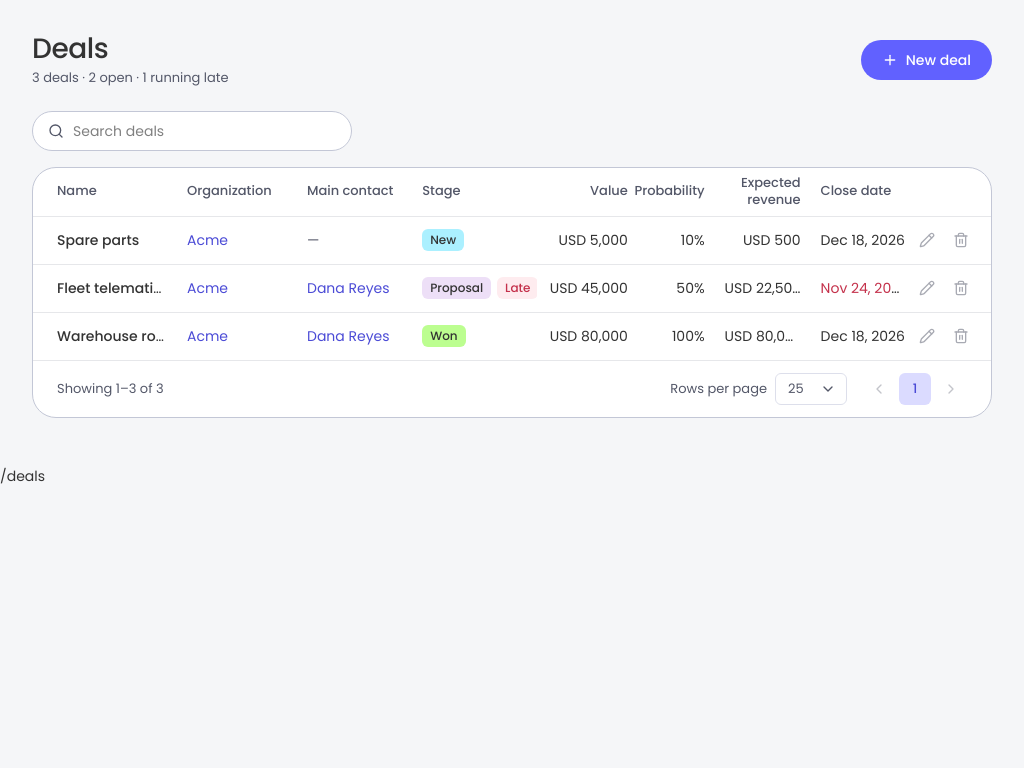
Test case: the deals table › says when a deal has nothing to delete with it
The width and height of the screenshot is (1024, 768).
Step 1. Click the button named "Delete Spare parts" → (961, 240), box top-left (945, 224), bottom-right (977, 256)
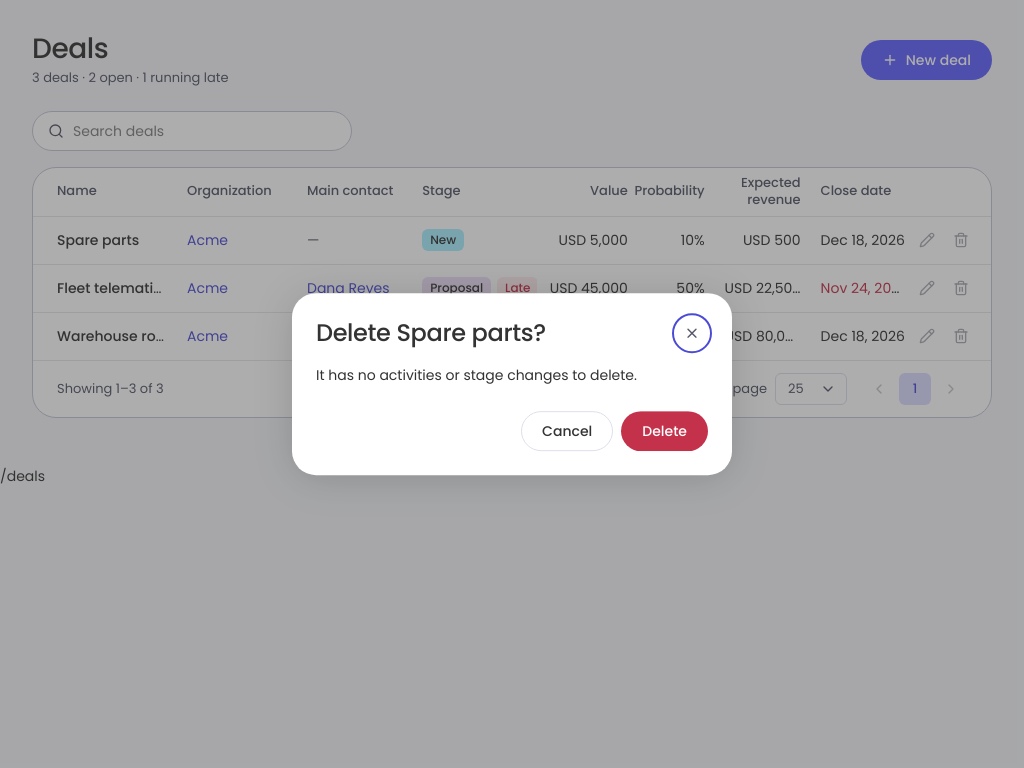
Expected: the text "It has no activities or stage changes to delete." is shown, top-left (316, 365), bottom-right (637, 385)
